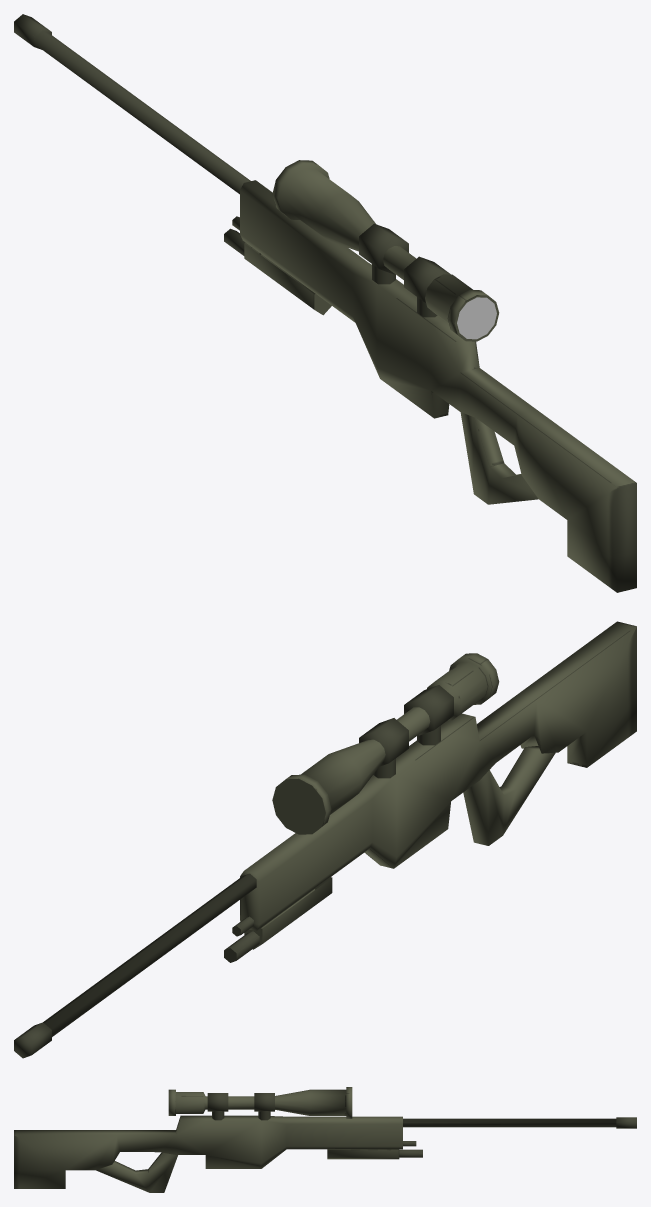
The model's file is Snaypa_Slon_V_1.fbx.
3 views of the same model, one above another, from view 1: azimuth 30°, elevation 25°; view 2: azimuth 150°, elevation 25°; view 3: azimuth 270°, elevation 25° (orthographic). The views are drawn at different scales.
Visible parts, largest first — view 1: Cube; view 2: Cube; view 3: Cube.
Part boxes in pixels (left/top/right/bottom): Cube: left=14, top=14, right=636, bottom=592; Cube: left=14, top=621, right=636, bottom=1058; Cube: left=14, top=1087, right=636, bottom=1192.
Size of the model in its own units: 43.2 by 154 by 845.
